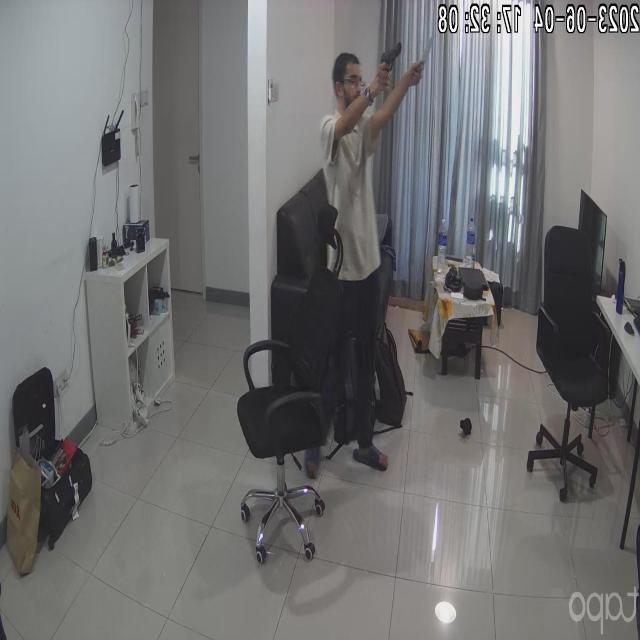Gun: (377, 34, 406, 98)
Knife: (418, 22, 441, 84)
